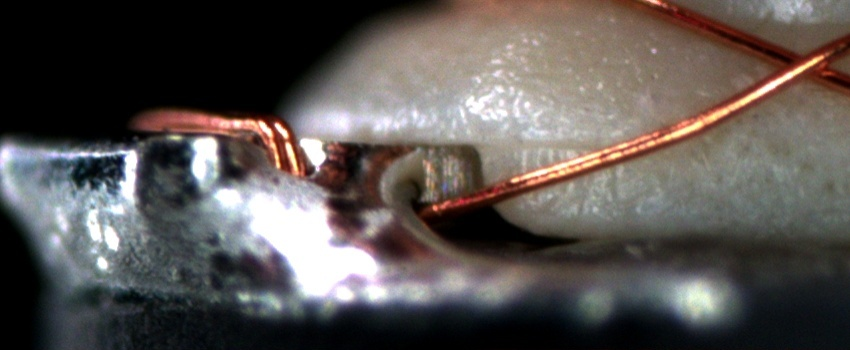CL: (754, 33, 845, 92)
DL: (517, 117, 626, 170)
TE: (134, 100, 316, 184)
